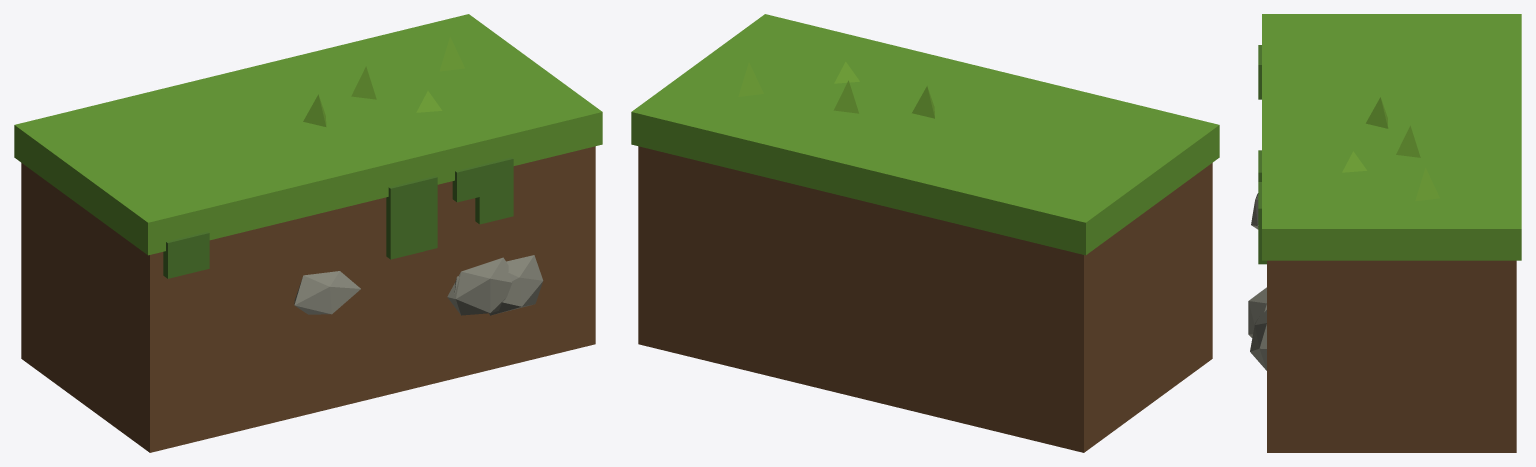
The model's file is ground_narrow.glb.
3 renders of one model, left to right at view 1: azimuth 30°, elevation 25°; view 2: azimuth 150°, elevation 25°; view 3: azimuth 270°, elevation 25°, orthographic. The views are drawn at different scales.
Parts seen in each view (by area): view 1: dirt-col, grass-col, moss, stone, leaf_light; view 2: dirt-col, grass-col, leaf_light; view 3: grass-col, dirt-col, leaf_light, stone, moss.
Boxes of the visible parts, box(x1,y1,x2,y2) form: dirt-col: box(21, 146, 595, 452); grass-col: box(14, 14, 602, 255); moss: box(163, 157, 513, 278); stone: box(294, 255, 543, 315); leaf_light: box(303, 37, 464, 126); dirt-col: box(638, 146, 1212, 452); grass-col: box(631, 14, 1219, 255); leaf_light: box(738, 62, 934, 118); grass-col: box(1262, 14, 1521, 260); dirt-col: box(1267, 260, 1516, 452); leaf_light: box(1342, 97, 1439, 201); stone: box(1248, 193, 1266, 370); moss: box(1258, 45, 1266, 264).
Size of the model in its own units: 4.08 by 2.26 by 2.19.
